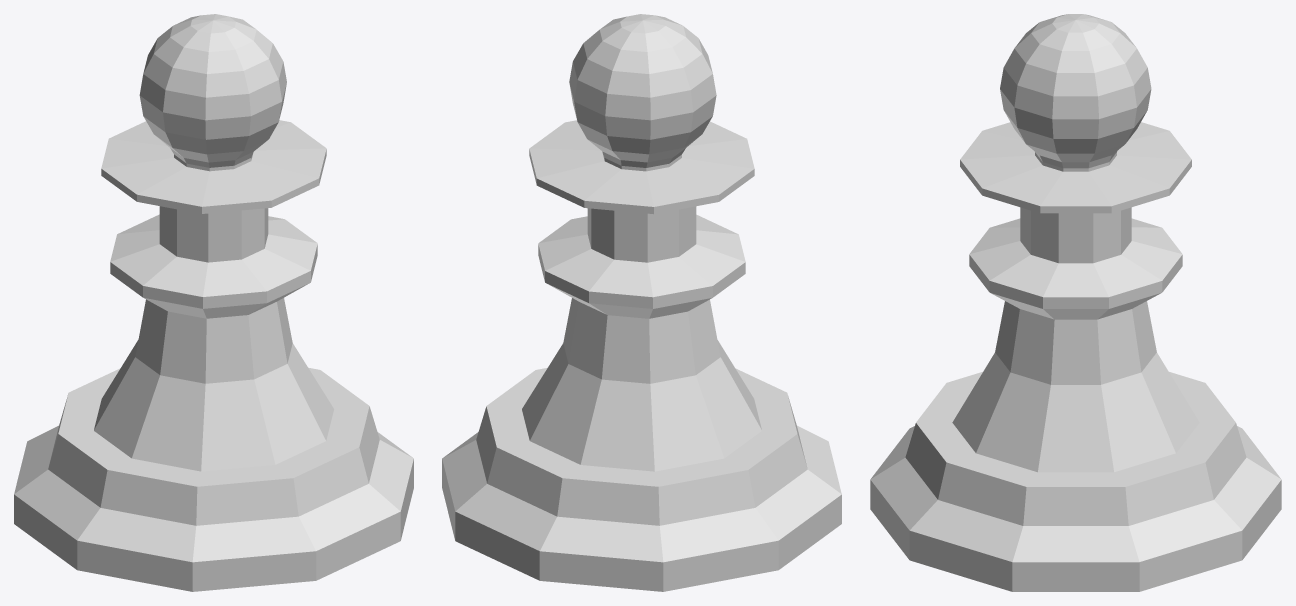
File: pawn.glb
3 views of the same model, side by side, from view 1: azimuth 30°, elevation 25°; view 2: azimuth 150°, elevation 25°; view 3: azimuth 270°, elevation 25° (orthographic).
Parts seen in each view (by area): view 1: pawn; view 2: pawn; view 3: pawn.
Part boxes in pixels (x1,y1,x2,y2): pawn: (14,14,413,591); pawn: (442,14,841,591); pawn: (870,14,1281,591).
Size of the model in its own units: 0.0476 by 0.0656 by 0.05.
Materials: 1 (1 with a texture image).
